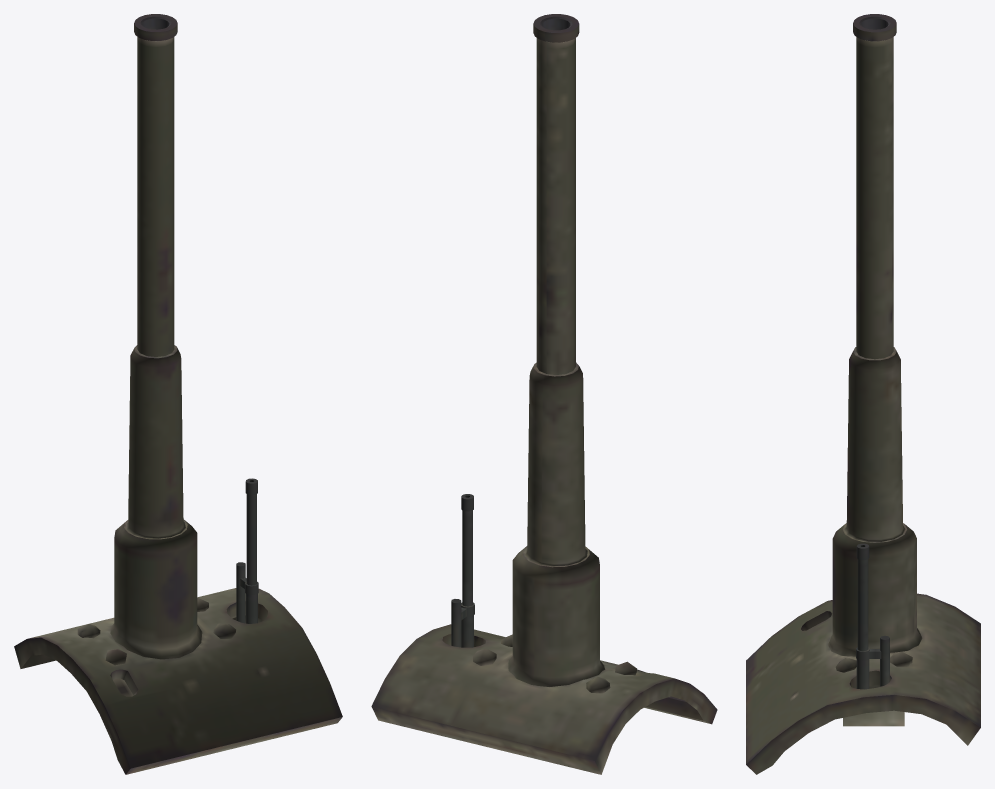
The model's file is Gun_01.glb.
The picture shows the model from 3 angles, left to right: view 1: azimuth 30°, elevation 25°; view 2: azimuth 150°, elevation 25°; view 3: azimuth 270°, elevation 25°; orthographic projection. The views are drawn at different scales.
Parts seen in each view (by area): view 1: set_0_group_0; view 2: set_0_group_0; view 3: set_0_group_0.
Boxes of the visible parts, x1,y1,x2,y2 form: set_0_group_0: [14, 14, 342, 774]; set_0_group_0: [371, 14, 717, 774]; set_0_group_0: [746, 14, 980, 774].
Size of the model in its own units: 0.4056 by 1.26 by 0.3866.
Materials: 1 (1 with a texture image).
